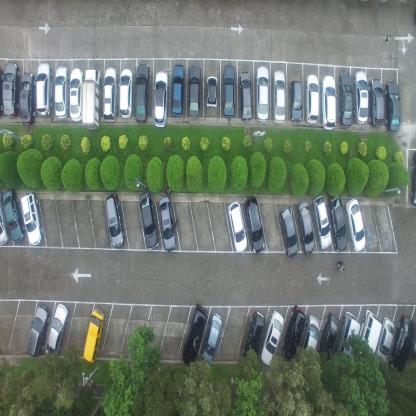car: (181, 302, 208, 366), (355, 309, 383, 369), (333, 309, 361, 369), (388, 316, 415, 376), (243, 310, 267, 368), (45, 301, 69, 358), (282, 304, 306, 360), (260, 310, 284, 366), (20, 192, 44, 246), (2, 187, 25, 243), (82, 307, 105, 363), (327, 191, 348, 252), (245, 194, 266, 254), (82, 68, 102, 131), (104, 192, 126, 248), (316, 311, 340, 362), (27, 304, 50, 357), (139, 190, 159, 249), (345, 196, 366, 251), (201, 311, 223, 363), (373, 317, 395, 368), (227, 199, 247, 254), (312, 195, 332, 250), (299, 313, 320, 365), (158, 195, 176, 252), (36, 62, 54, 118), (297, 199, 315, 255), (280, 204, 299, 257), (337, 70, 353, 130), (20, 72, 37, 128), (135, 60, 150, 123), (153, 70, 169, 128), (3, 60, 19, 118), (255, 64, 270, 122), (385, 80, 401, 133), (187, 63, 202, 118), (171, 62, 186, 117), (55, 65, 70, 120), (321, 75, 336, 130), (368, 78, 384, 128), (70, 66, 84, 122), (104, 65, 118, 121), (272, 68, 286, 124), (354, 70, 368, 125), (119, 67, 134, 118), (305, 74, 320, 124), (239, 69, 253, 121), (222, 64, 235, 117), (289, 78, 303, 123), (0, 191, 9, 247), (206, 74, 218, 107), (410, 150, 416, 206)
